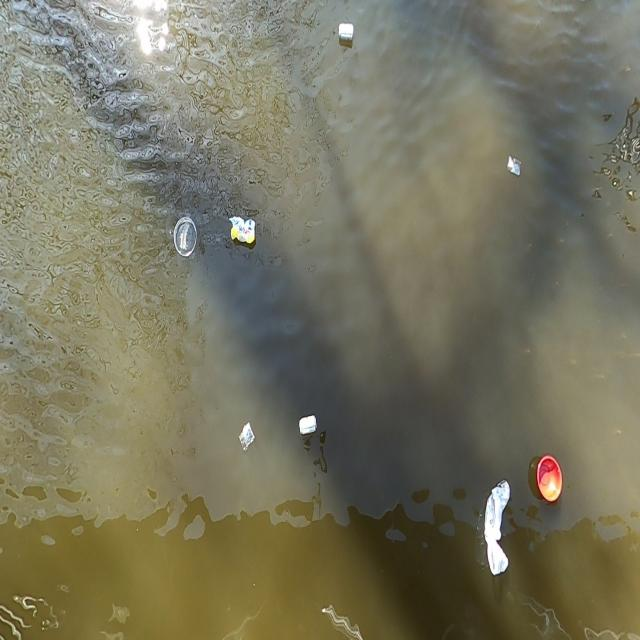Autre plastique: (532, 456, 565, 512)
Non plastique: (295, 415, 319, 439), (334, 22, 356, 46)
